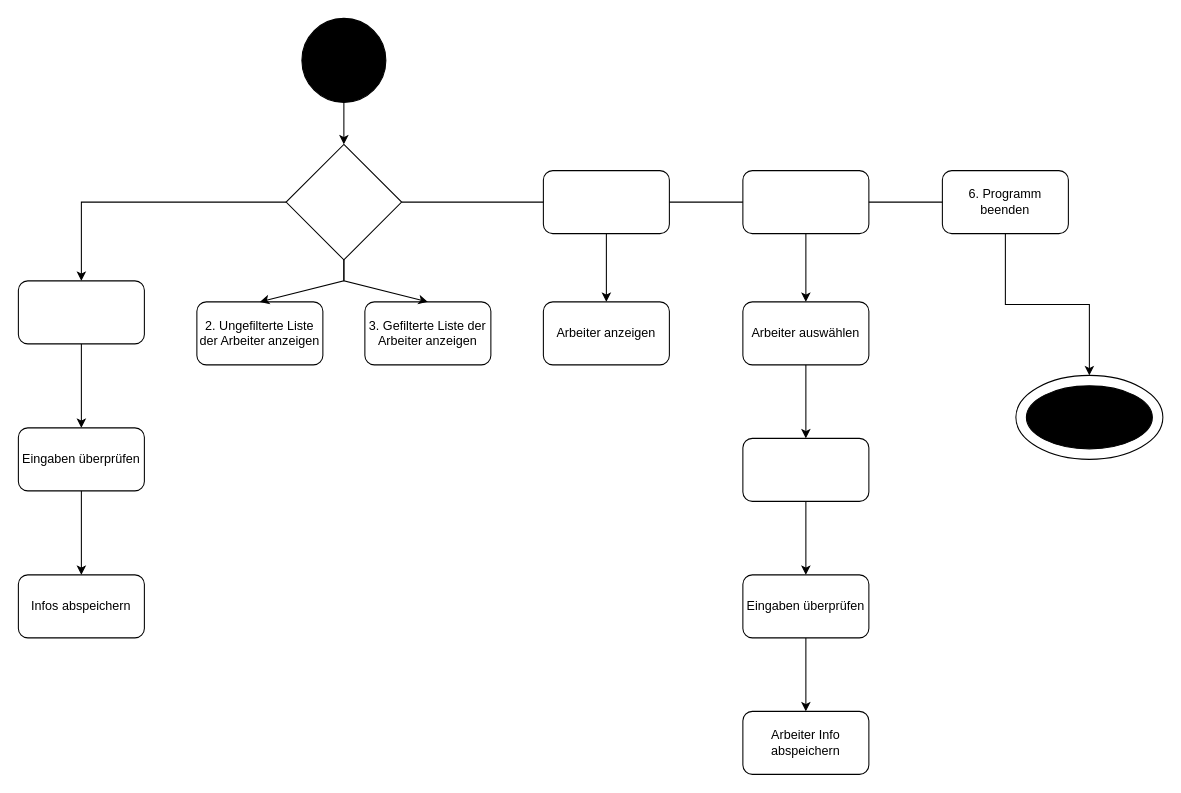
Image size: 1181x793. Some labels were removed from this diagram. The shapes that lost their labels are listed below. From the top down, each one's centre as x and y in pixels, then its label:
(343,201): Hauptmenü
(605,202): 4. Filtern
(805,202): 5. Arbeiter Info bearbeiten
(80,312): 1. Arbeiter hinzufügen
(805,469): Zu bearbeitendes Feld auswählen
